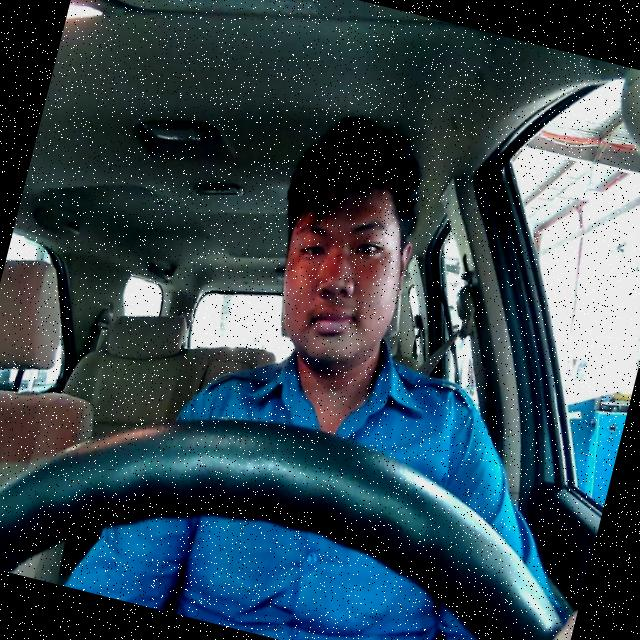focused: (259, 165, 424, 381)
